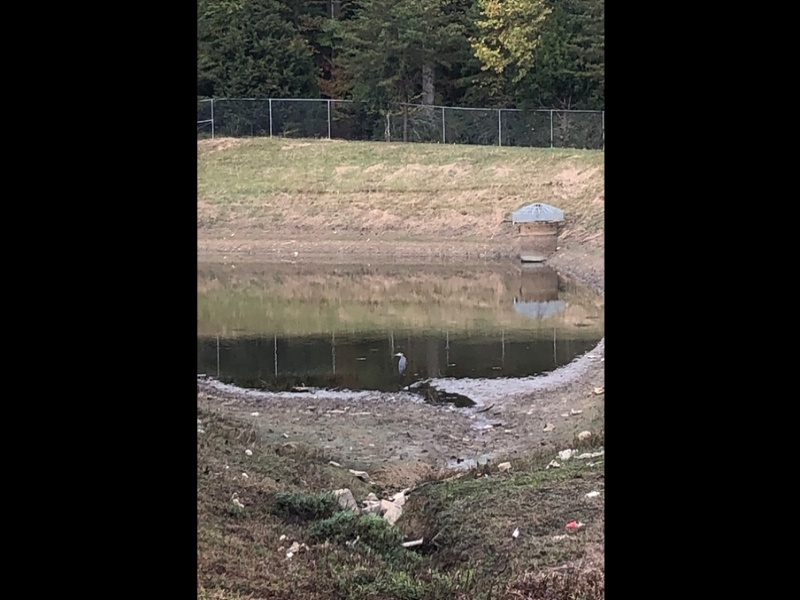heron: (394, 349, 408, 380)
